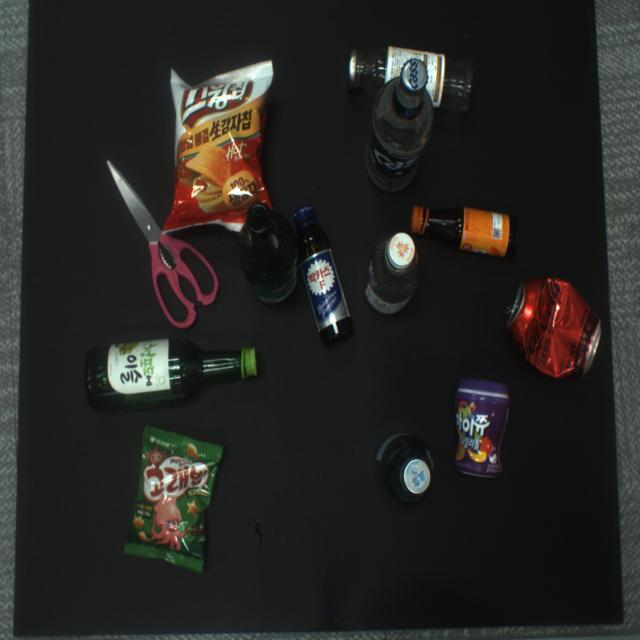soju-bottle: (85, 339, 258, 410)
